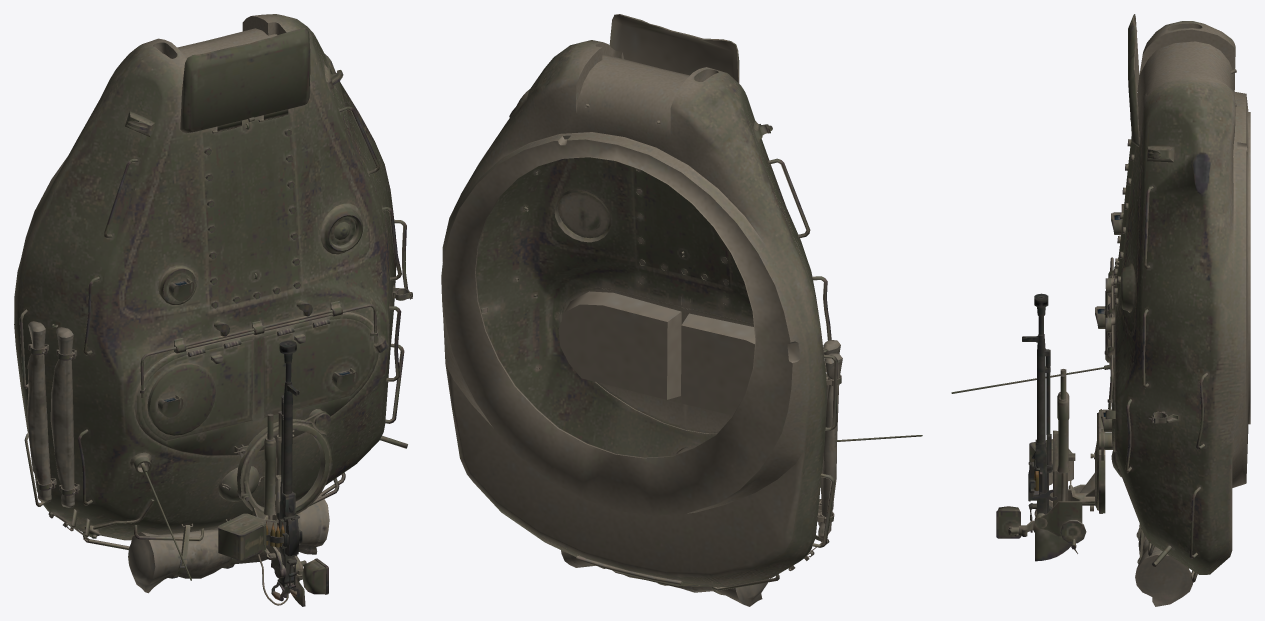
File: Turret_01.glb
3 renders of one model, left to right at view 1: azimuth 30°, elevation 25°; view 2: azimuth 150°, elevation 25°; view 3: azimuth 270°, elevation 25°, orthographic. The views are drawn at different scales.
Visible parts, largest first — view 1: set_0_group_0; view 2: set_0_group_0; view 3: set_0_group_0.
Part boxes in pixels (<box>): set_0_group_0: <box>14,14,412,606</box>; set_0_group_0: <box>441,14,922,606</box>; set_0_group_0: <box>951,14,1250,606</box>.
Bounding box in the file's own units: 2.66 × 3.55 × 1.82.
1 material, 1 textured.
